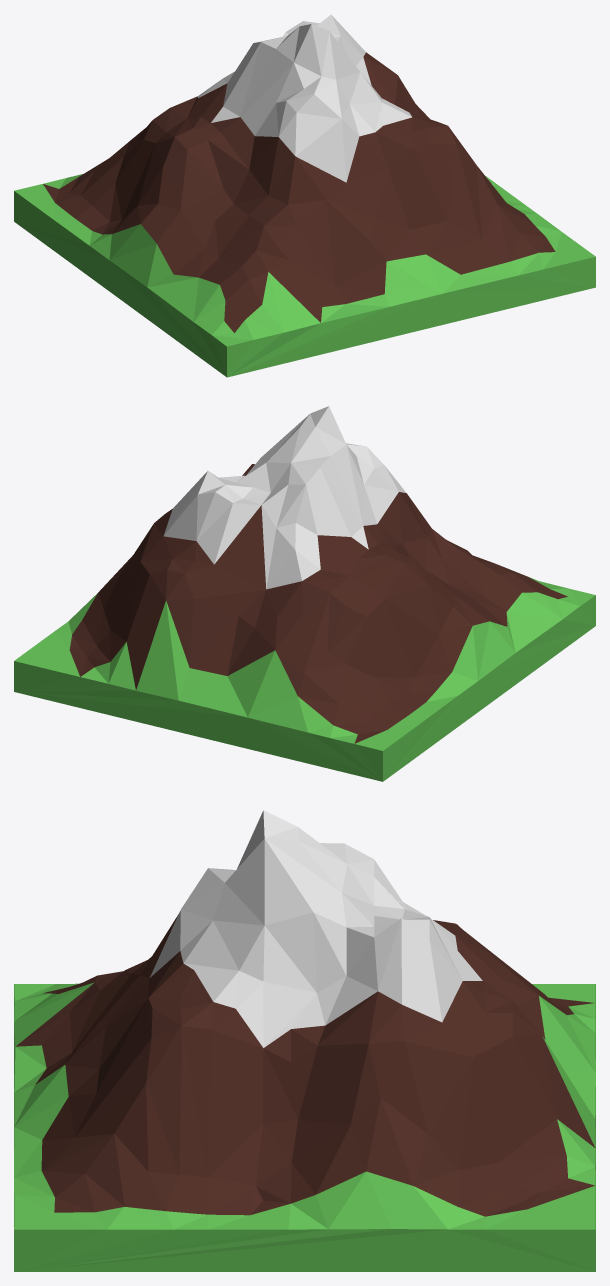
Rendered from mountains_2.fbx.
3 views of the same model, one above another, from view 1: azimuth 30°, elevation 25°; view 2: azimuth 150°, elevation 25°; view 3: azimuth 270°, elevation 25° (orthographic). The views are drawn at different scales.
Visible parts, largest first — view 1: Куб; view 2: Куб; view 3: Куб.
Part boxes in pixels (bbox=[...]): Куб: bbox=[14, 14, 595, 377]; Куб: bbox=[14, 406, 595, 781]; Куб: bbox=[14, 810, 595, 1271].
Bounding box in the file's own units: 2000 × 1263 × 2001.
